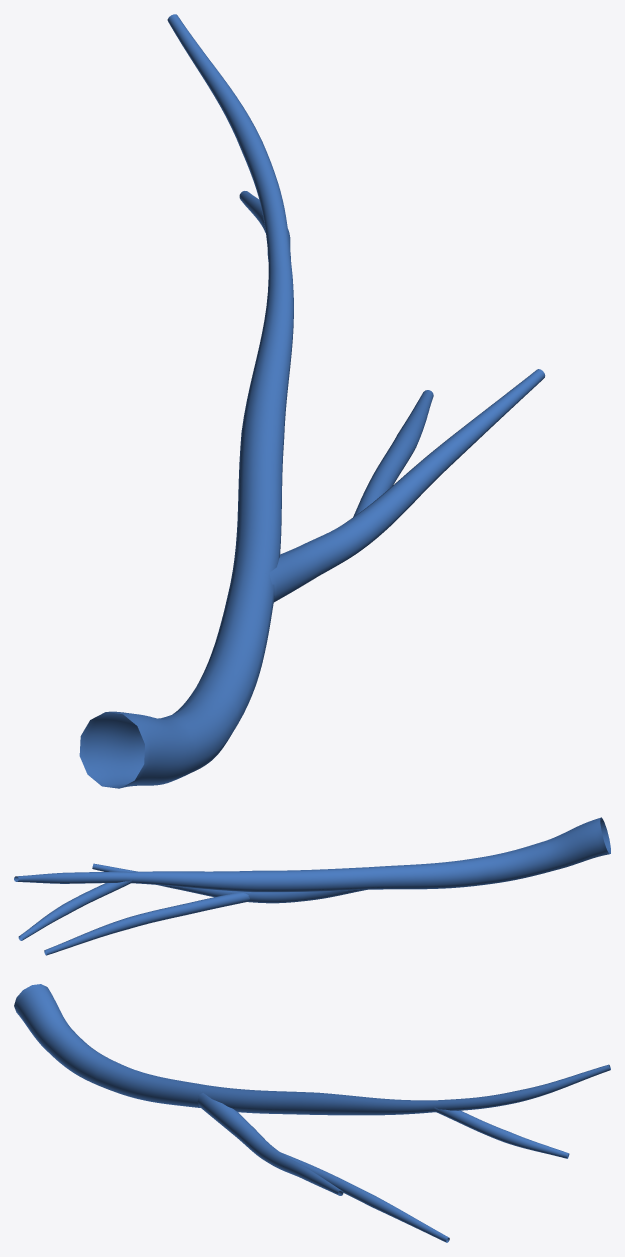
3 views of the same model, one above another, from view 1: azimuth 30°, elevation 25°; view 2: azimuth 150°, elevation 25°; view 3: azimuth 270°, elevation 25° (orthographic). The views are drawn at different scales.
Parts seen in each view (by area): view 1: 左肺底上静脉; view 2: 左肺底上静脉; view 3: 左肺底上静脉.
Part boxes in pixels (<box>): 左肺底上静脉: <box>79,14,545,788</box>; 左肺底上静脉: <box>14,817,610,955</box>; 左肺底上静脉: <box>14,984,610,1242</box>.
Size of the model in its own units: 0.1109 by 0.0421 by 0.1486.
